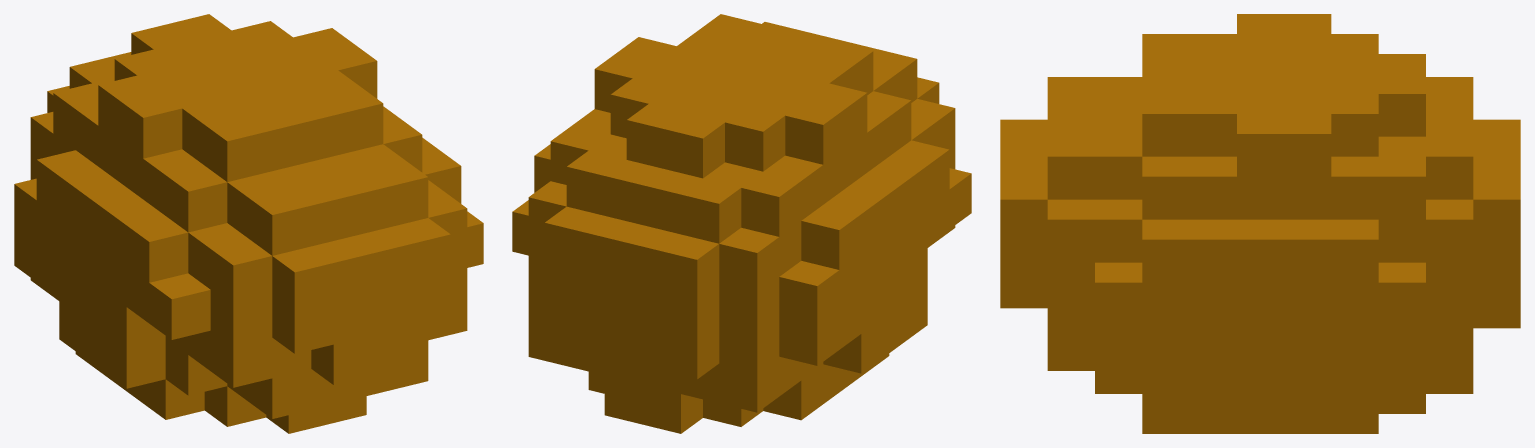
Rendered from cat_body.fbx.
The picture shows the model from 3 angles, left to right: view 1: azimuth 30°, elevation 25°; view 2: azimuth 150°, elevation 25°; view 3: azimuth 270°, elevation 25°; orthographic projection. The views are drawn at different scales.
Parts seen in each view (by area): view 1: cat_body; view 2: cat_body; view 3: cat_body.
Boxes of the visible parts, left/top/right/bottom form: cat_body: left=14, top=14, right=483, bottom=433; cat_body: left=512, top=14, right=971, bottom=433; cat_body: left=1000, top=14, right=1520, bottom=433.
Size of the model in its own units: 0.8 by 0.7 by 1.1.
